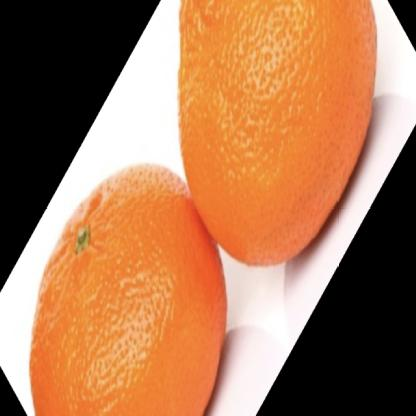fresh: (32, 3, 379, 416)
